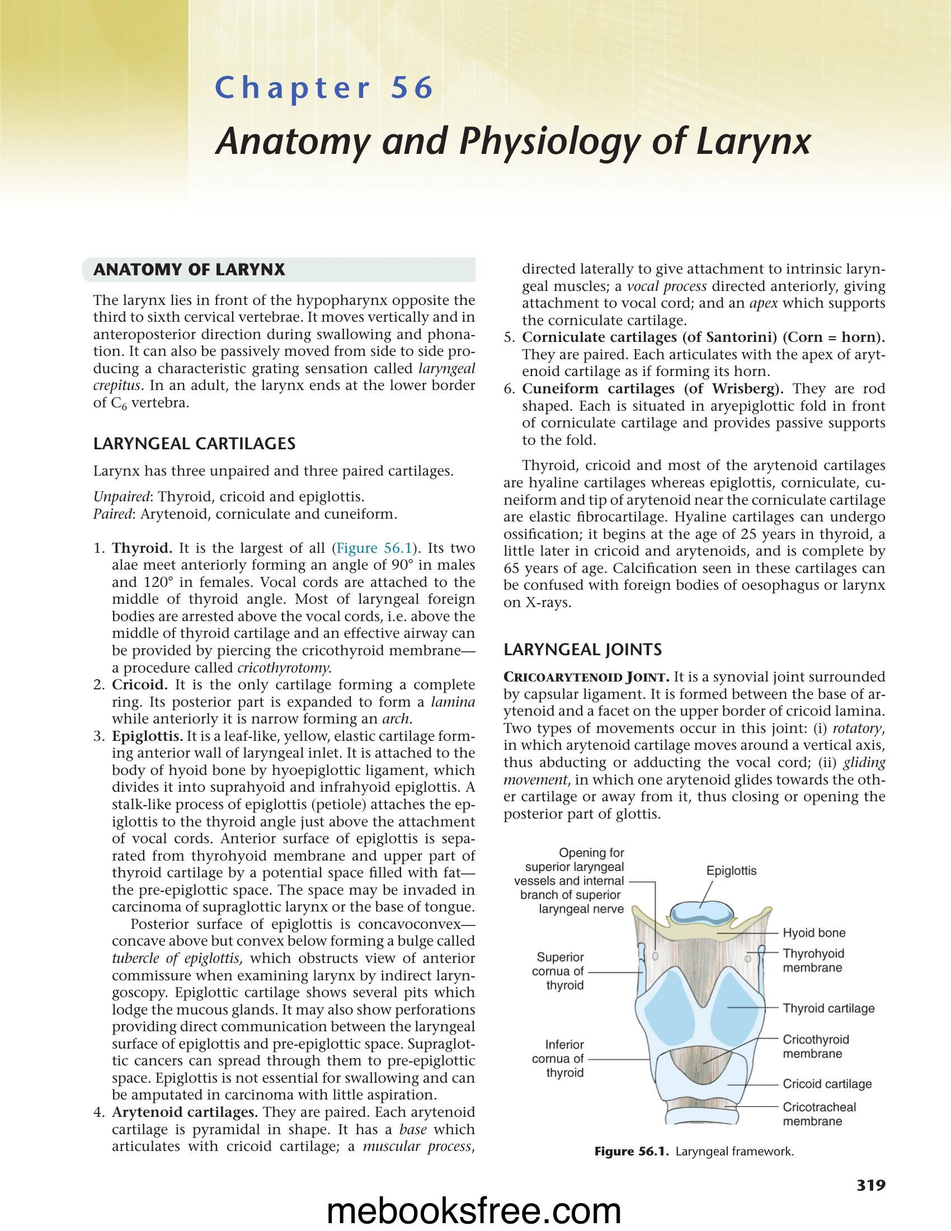caption: (594, 1144, 795, 1159)
chapter-heading: (212, 123, 815, 166)
image: (503, 835, 900, 1142)
list: (89, 539, 477, 1156), (501, 261, 888, 446)
section-heading: (91, 261, 288, 277)
sub-section-heading: (92, 434, 297, 452), (503, 641, 662, 659)
text: (502, 457, 887, 614), (503, 669, 886, 825), (91, 292, 478, 412), (91, 462, 455, 524)
